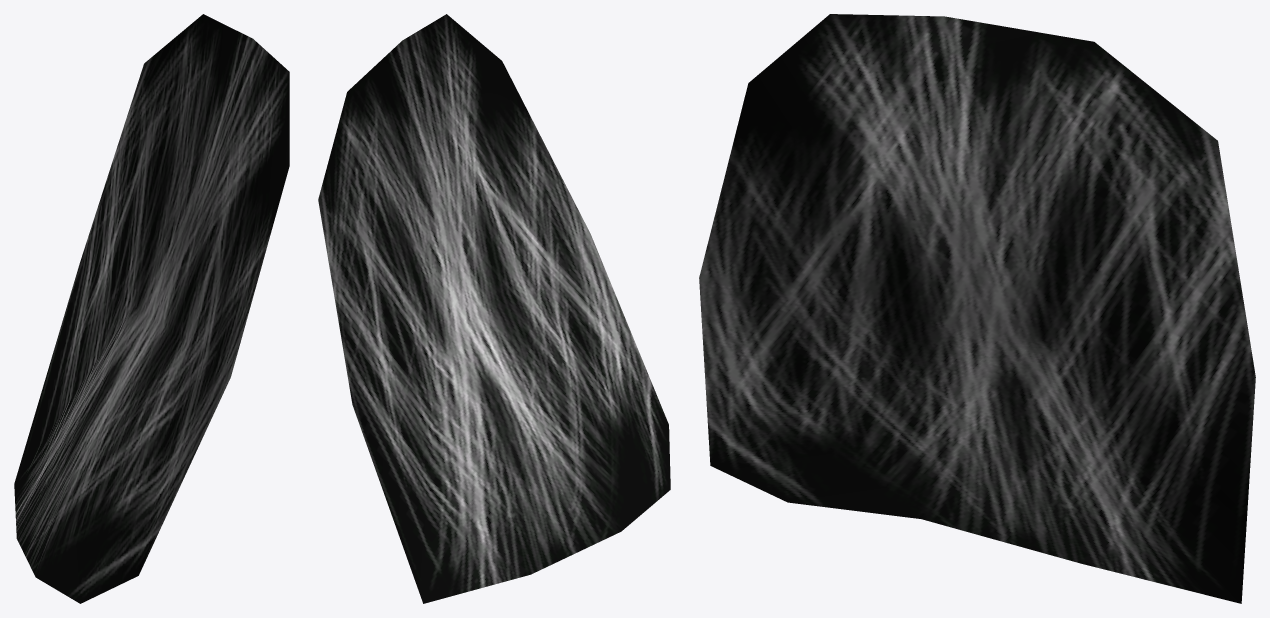
File: MIRKWOOD_SPIDERWEB_COVERS04.fbx
3 renders of one model, left to right at view 1: azimuth 30°, elevation 25°; view 2: azimuth 150°, elevation 25°; view 3: azimuth 270°, elevation 25°, orthographic. The views are drawn at different scales.
Visible parts, largest first — view 1: MIRKWOOD_SPIDERWEB_COVERS04; view 2: MIRKWOOD_SPIDERWEB_COVERS04; view 3: MIRKWOOD_SPIDERWEB_COVERS04.
Boxes of the visible parts, <box> form: MIRKWOOD_SPIDERWEB_COVERS04: <box>14,14,289,603</box>; MIRKWOOD_SPIDERWEB_COVERS04: <box>318,14,670,603</box>; MIRKWOOD_SPIDERWEB_COVERS04: <box>699,14,1255,603</box>.
Size of the model in its own units: 22464 by 45030 by 33666.
Materials: 1 (1 with a texture image).
